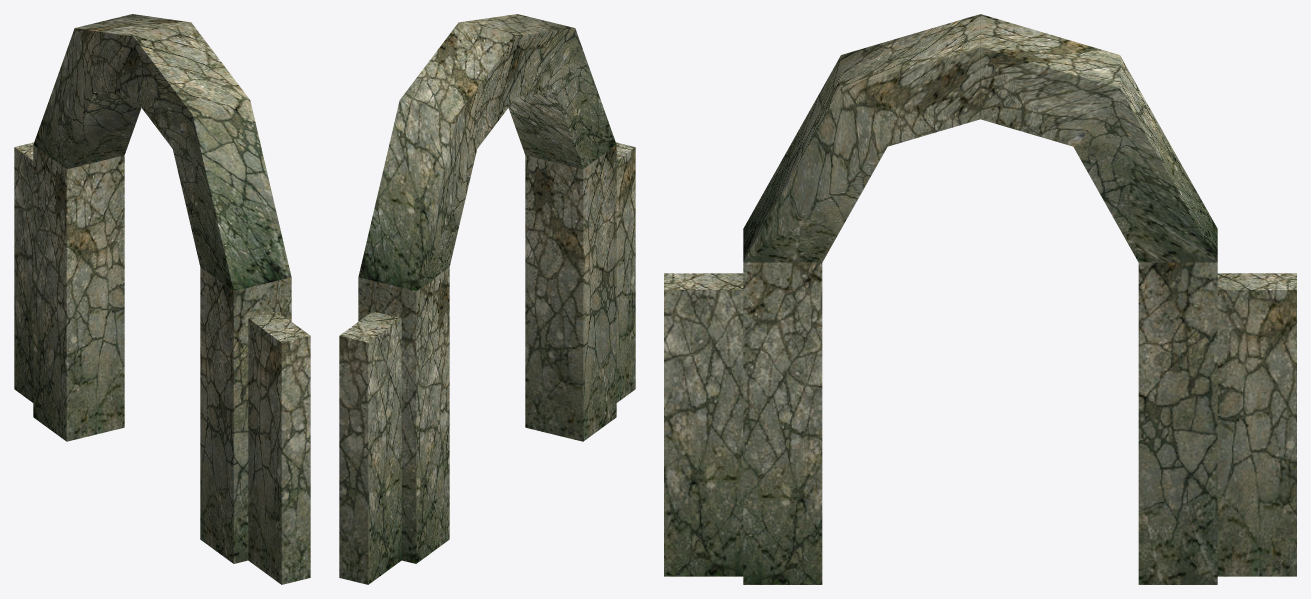
File: thm_nboo_gungan_damaged_narrow_arch_s01_l2.fbx
3 views of the same model, side by side, from view 1: azimuth 30°, elevation 25°; view 2: azimuth 150°, elevation 25°; view 3: azimuth 270°, elevation 25° (orthographic). The views are drawn at different scales.
Visible parts, largest first — view 1: mesh_node; view 2: mesh_node; view 3: mesh_node.
Part boxes in pixels (<box>): mesh_node: <box>14,14,310,584</box>; mesh_node: <box>339,14,635,584</box>; mesh_node: <box>664,14,1296,584</box>.
Size of the model in its own units: 1 by 7.5 by 8.
